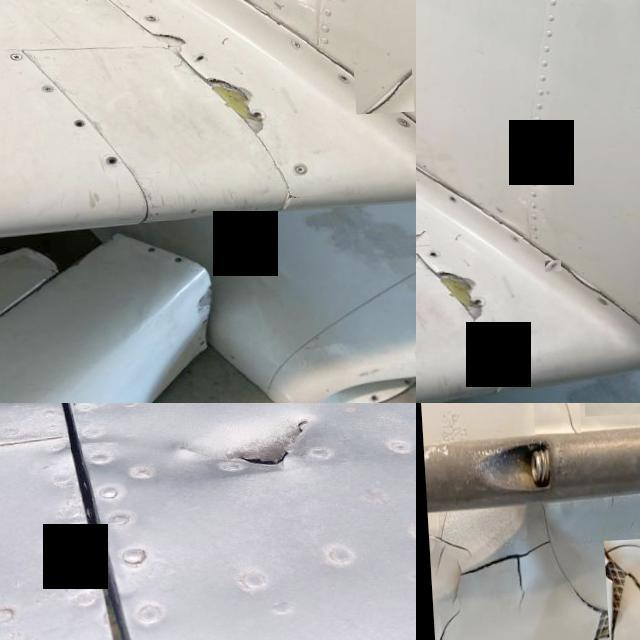Crack: (164, 403, 338, 500), (534, 500, 602, 620), (444, 541, 542, 613), (194, 74, 266, 142), (422, 264, 480, 324), (351, 73, 411, 119), (593, 284, 640, 337), (138, 30, 188, 62), (558, 267, 592, 298), (266, 196, 314, 214), (553, 403, 577, 437), (479, 368, 518, 388)
Missing_Fastener: (420, 248, 436, 262), (538, 262, 555, 274), (100, 156, 114, 168), (69, 118, 83, 130), (334, 78, 347, 89), (191, 55, 203, 65), (442, 197, 454, 204)
